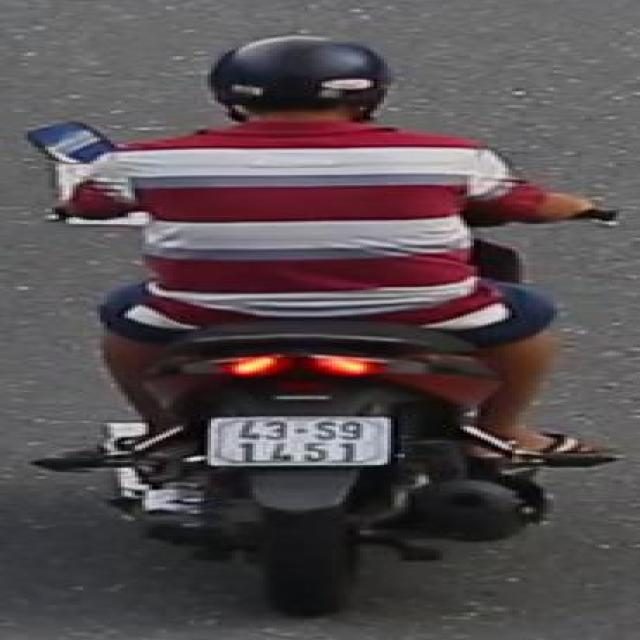LP: (199, 409, 396, 468)
helmet: (204, 30, 401, 124)
